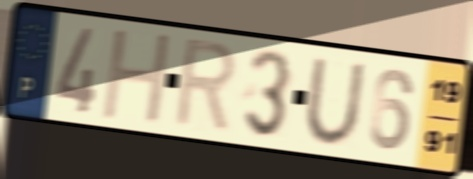3: (235, 47, 298, 141)
4: (51, 23, 99, 116)
6: (368, 66, 418, 154)
H: (98, 28, 176, 126)
R: (170, 35, 241, 138)
U: (302, 56, 369, 150)
